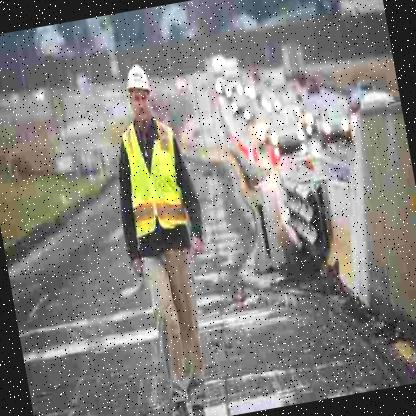capacete: (121, 60, 158, 123)
colete_refletivo: (104, 116, 206, 250)
